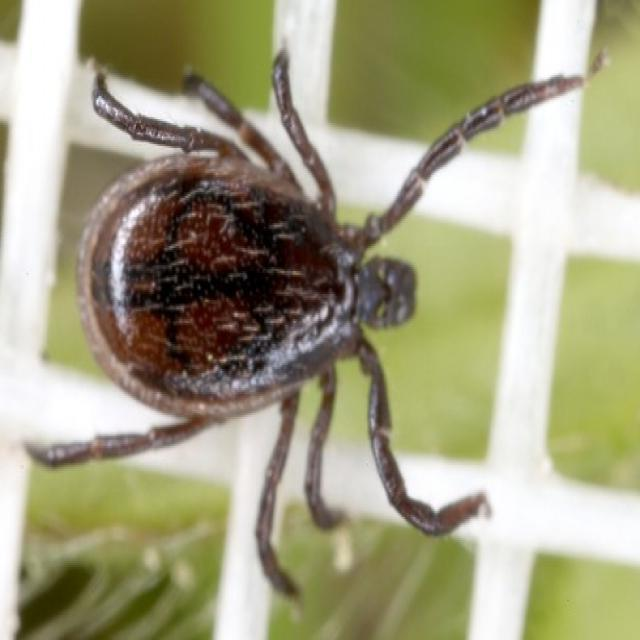Ixodes Ricinus-M: (30, 52, 586, 602)
